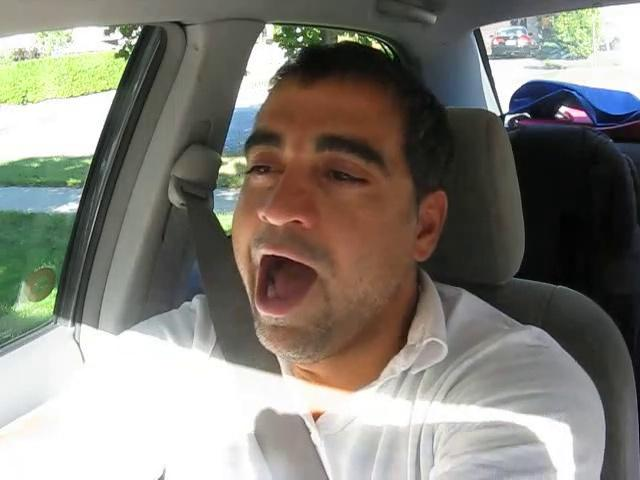close_eyeL: (237, 153, 291, 189)
close_eyeR: (304, 152, 386, 201)
yawn: (230, 238, 343, 323)
